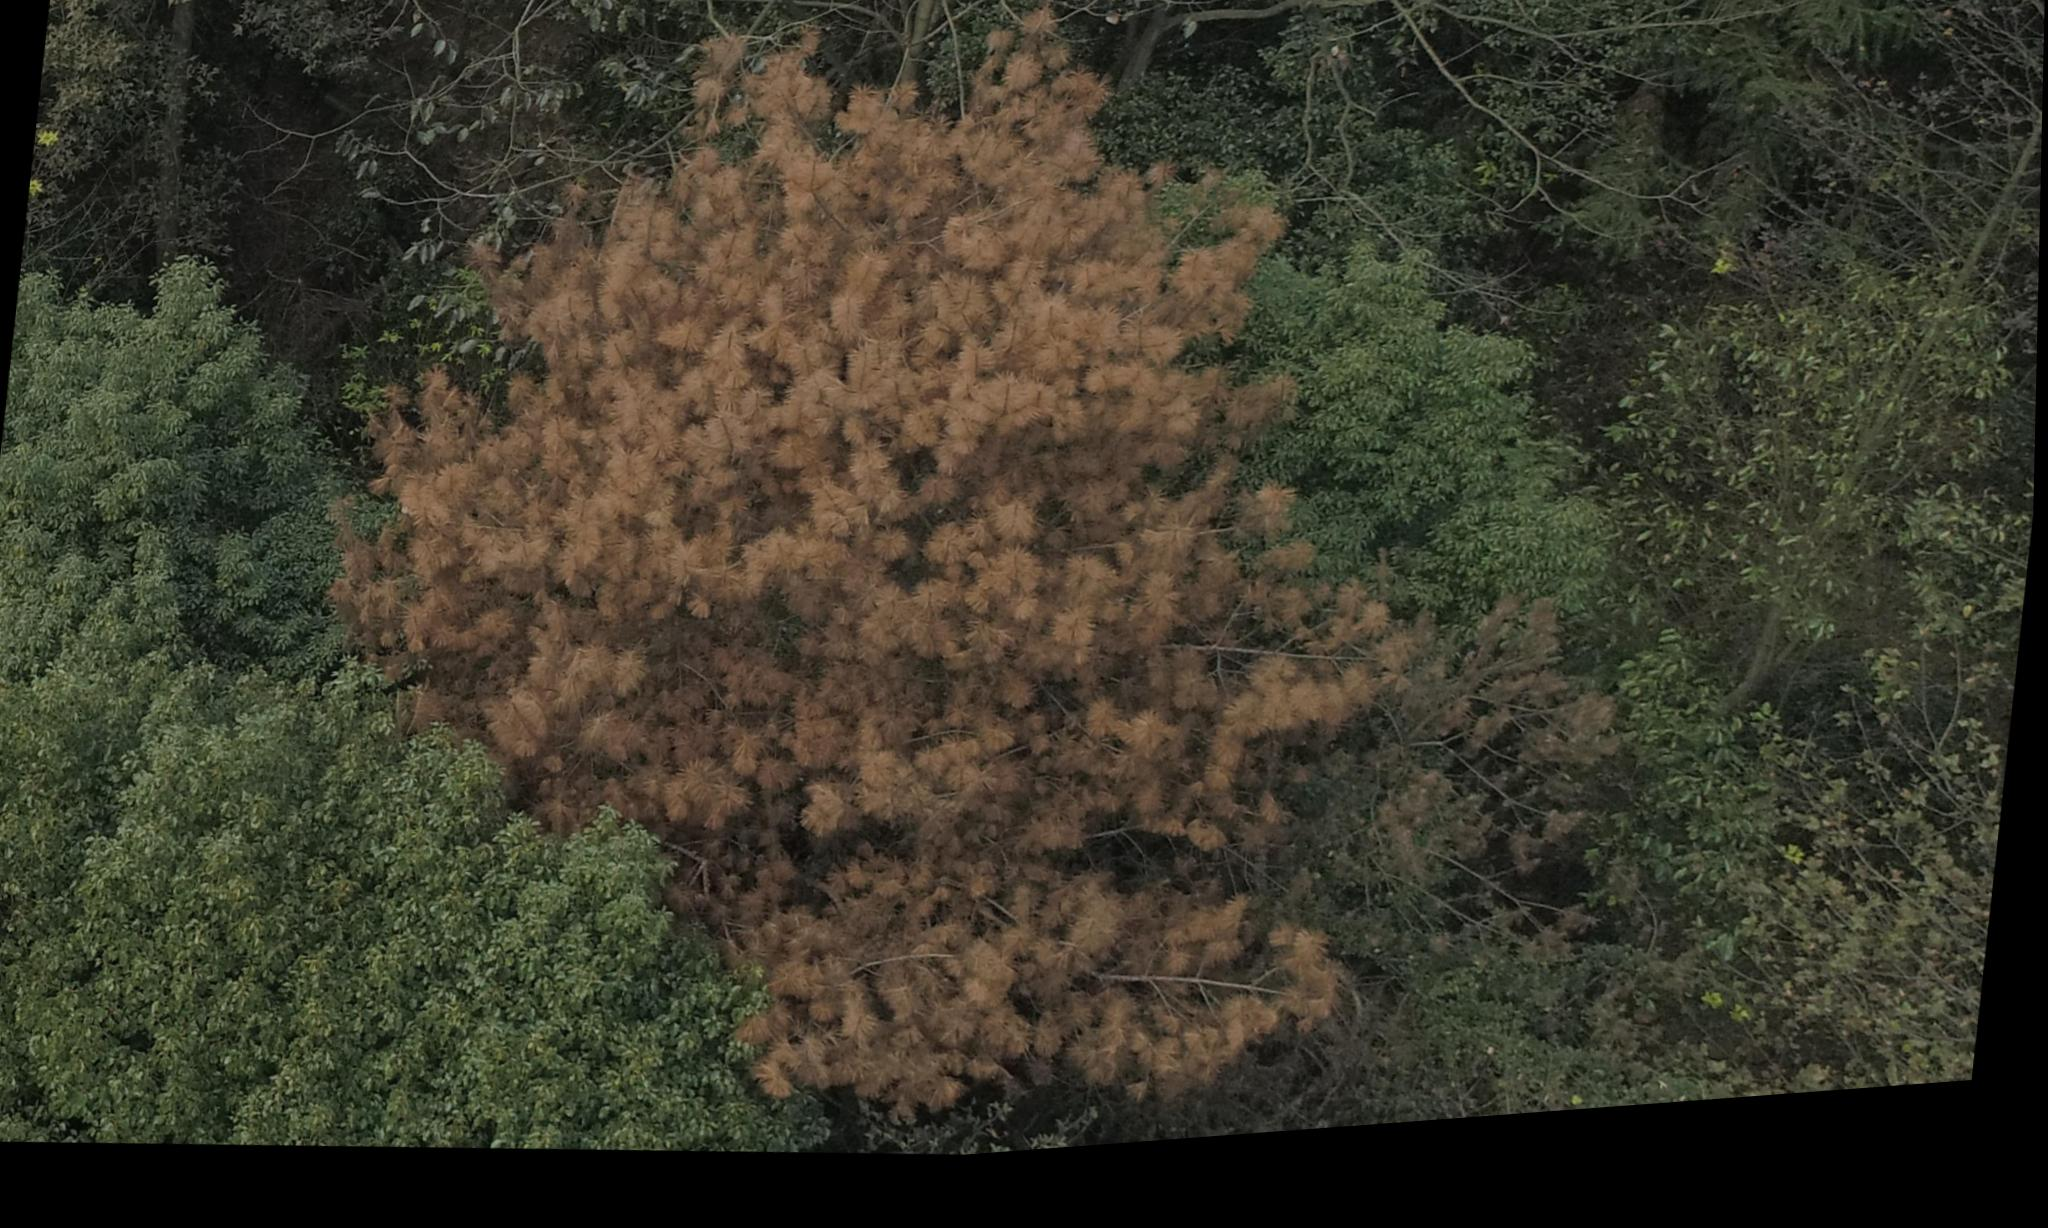heavy: (295, 0, 1512, 1209)
